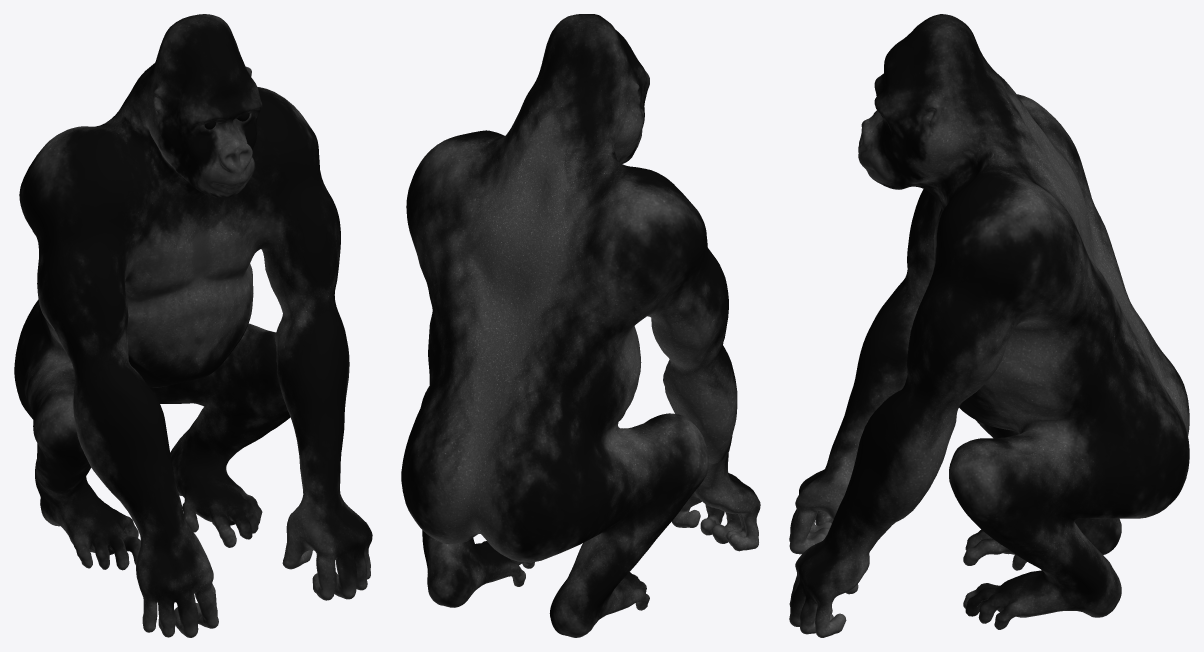
Rendered from gorilla.glb.
The picture shows the model from 3 angles, left to right: view 1: azimuth 30°, elevation 25°; view 2: azimuth 150°, elevation 25°; view 3: azimuth 270°, elevation 25°; orthographic projection. The views are drawn at different scales.
Visible parts, largest first — view 1: Cylinder.002; view 2: Cylinder.002; view 3: Cylinder.002.
Boxes of the visible parts, x1,y1,x2,y2 form: Cylinder.002: (14, 14, 372, 637); Cylinder.002: (401, 14, 760, 637); Cylinder.002: (789, 14, 1189, 637).
Size of the model in its own units: 342 by 619 by 396.
2 materials, 1 textured.
